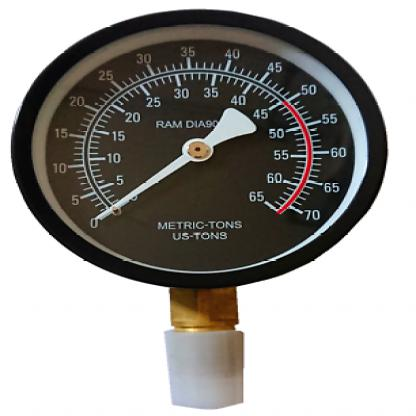needle: (95, 153, 193, 222)
